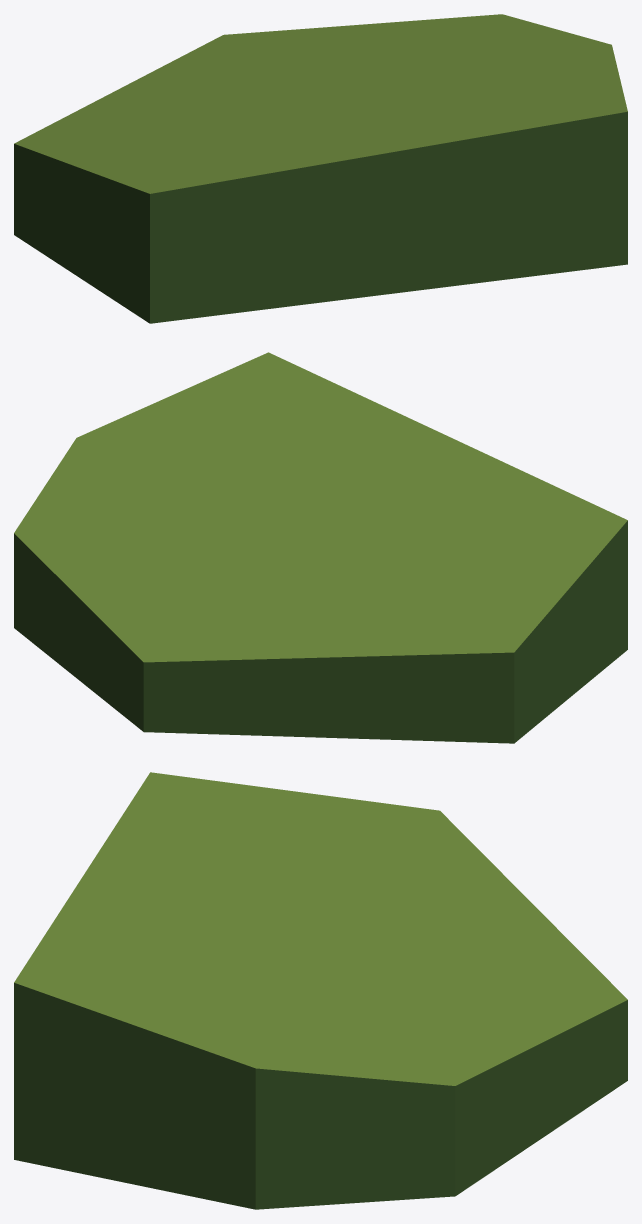
Rendered from gf_rubble_a.glb.
The picture shows the model from 3 angles, top to bottom: view 1: azimuth 30°, elevation 25°; view 2: azimuth 150°, elevation 25°; view 3: azimuth 270°, elevation 25°; orthographic projection. The views are drawn at different scales.
Parts seen in each view (by area): view 1: gf_rubble_a; view 2: gf_rubble_a; view 3: gf_rubble_a.
Part boxes in pixels (<box>): gf_rubble_a: <box>14,14,627,323</box>; gf_rubble_a: <box>14,352,627,743</box>; gf_rubble_a: <box>14,772,627,1209</box>.
Size of the model in its own units: 0.1788 by 0.0504 by 0.1582.
